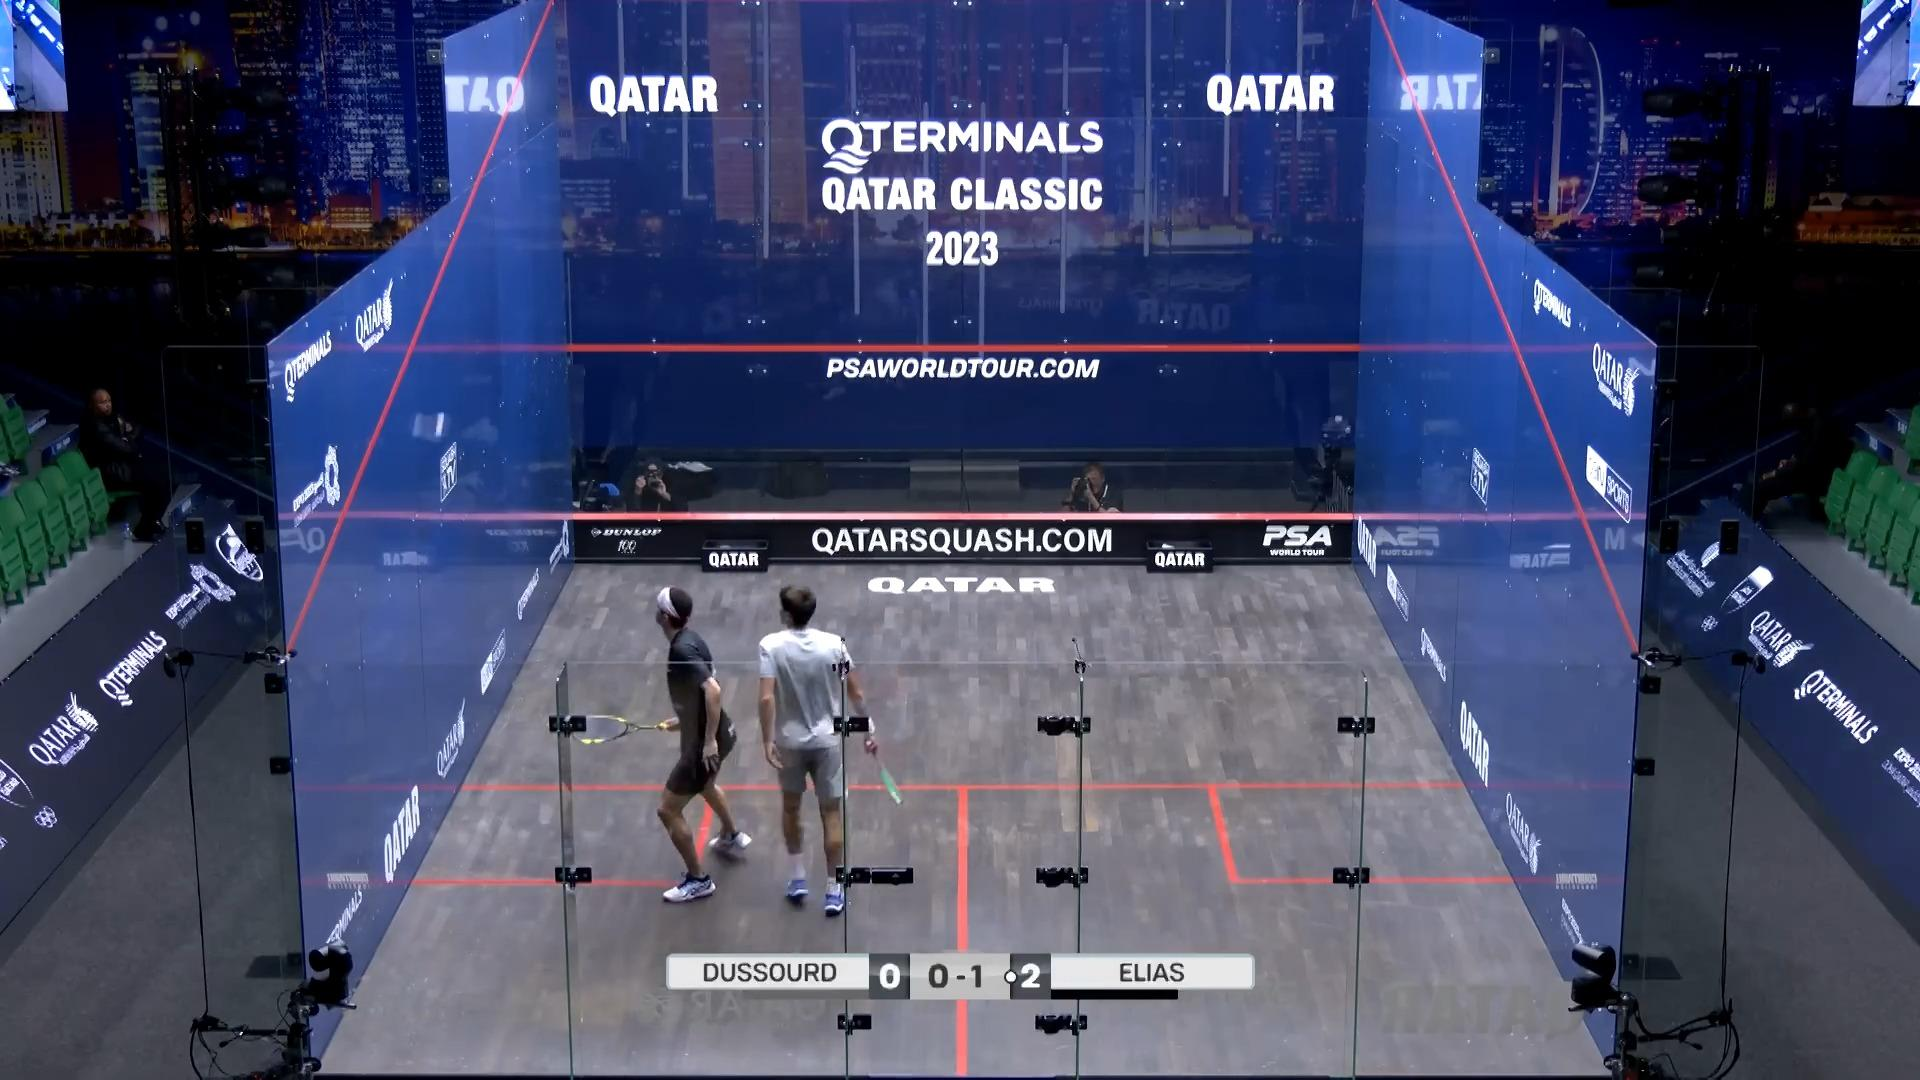Racket: (570, 695, 657, 761), (857, 754, 927, 818)
